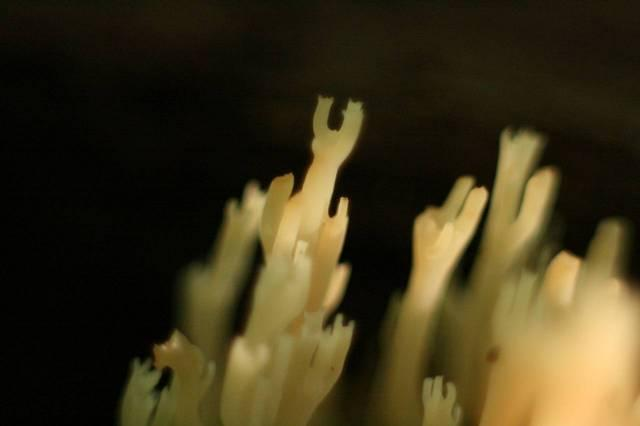Edible Mushroom: (115, 89, 637, 424), (117, 89, 366, 424), (368, 122, 638, 424)
